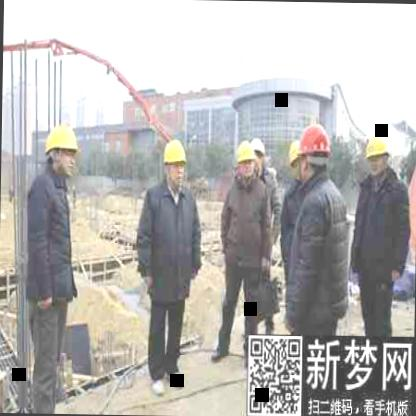helmet: (292, 122, 334, 184), (39, 121, 83, 180), (160, 135, 188, 188), (363, 130, 392, 178), (249, 134, 270, 181), (233, 136, 254, 181)
